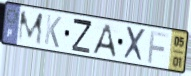A: (91, 23, 117, 60)
F: (146, 29, 171, 65)
K: (43, 13, 63, 50)
M: (16, 10, 45, 47)
X: (122, 25, 147, 64)
Z: (71, 17, 94, 55)
